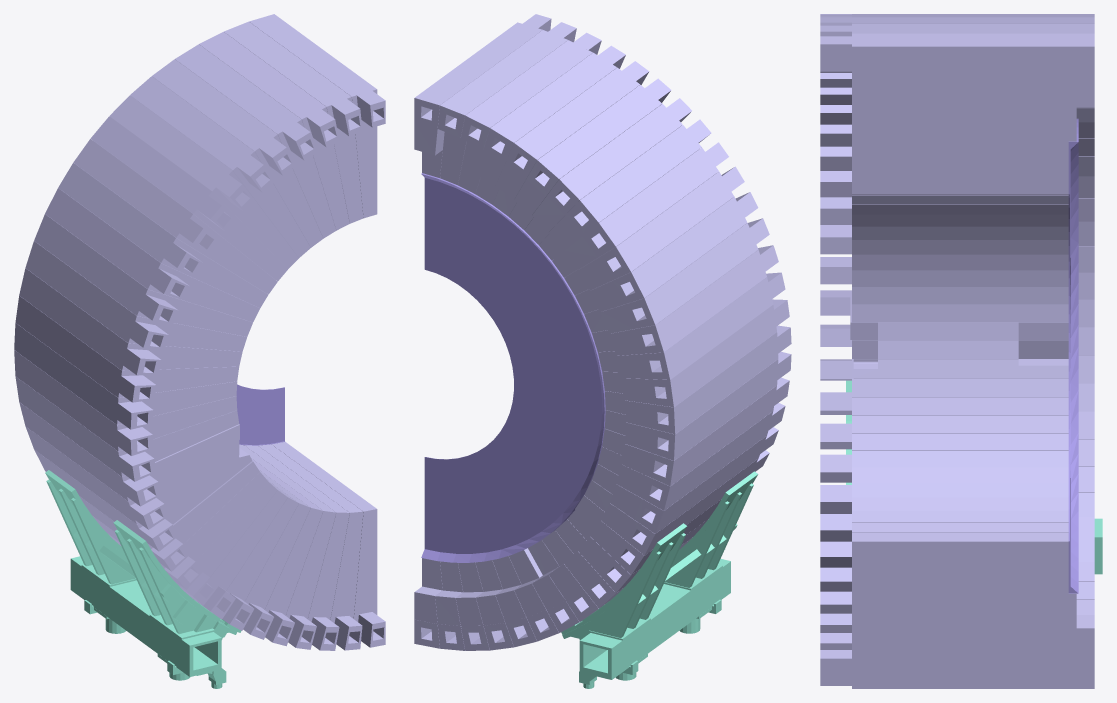
File: Tile-End-Cap-SideA-cut2.glb
3 views of the same model, side by side, from view 1: azimuth 30°, elevation 25°; view 2: azimuth 150°, elevation 25°; view 3: azimuth 270°, elevation 25° (orthographic). The views are drawn at different scales.
Visible parts, largest first — view 1: null; view 2: null; view 3: null.
Boxes of the visible parts, bbox=[...] form: null: bbox=[14, 14, 385, 688]; null: bbox=[414, 14, 791, 688]; null: bbox=[820, 14, 1102, 688].
Size of the model in its own units: 4.24 by 8.73 by 3.37.
